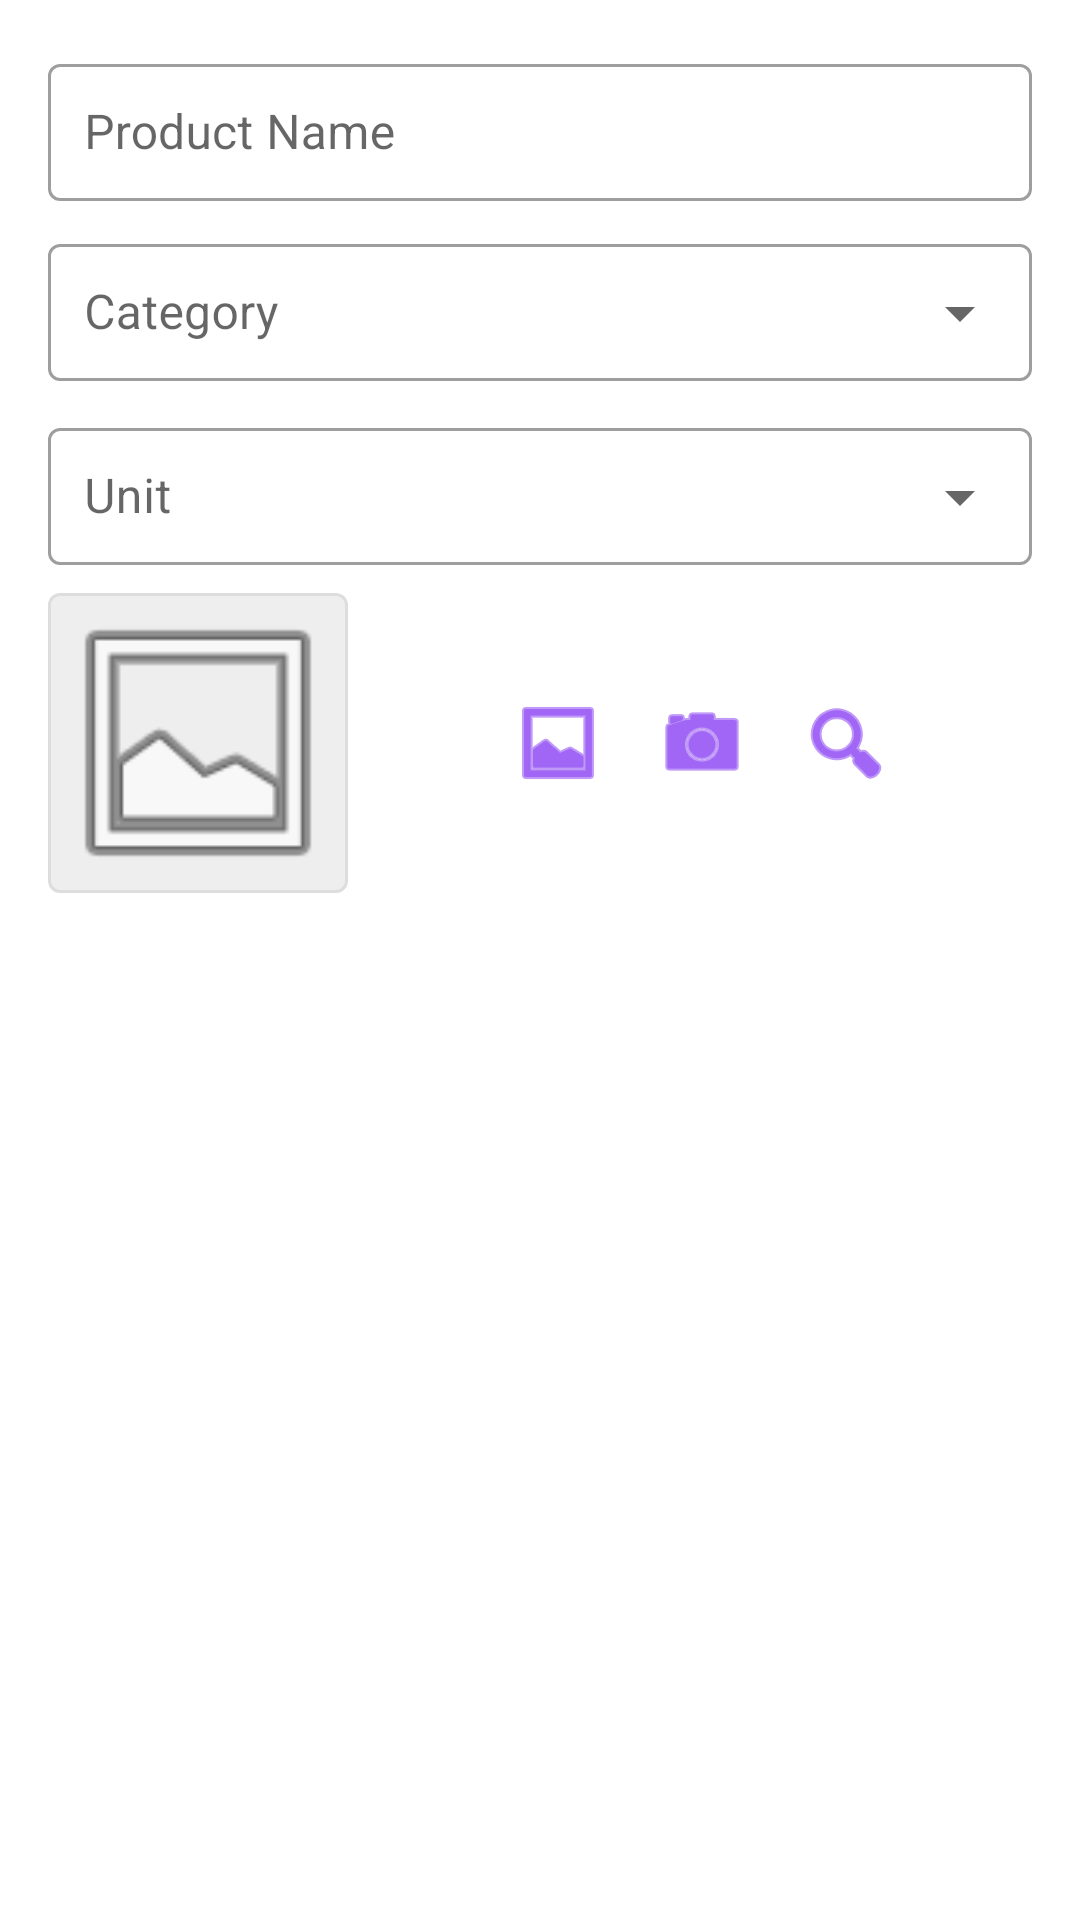

Icon bounding boxes for this 1080px x 1920px phone screenshot, format (x1, y1, x2, y2):
camera: (665, 712, 739, 771)
gallery: (48, 593, 348, 893), (522, 707, 594, 779)
search: (810, 708, 882, 779)
